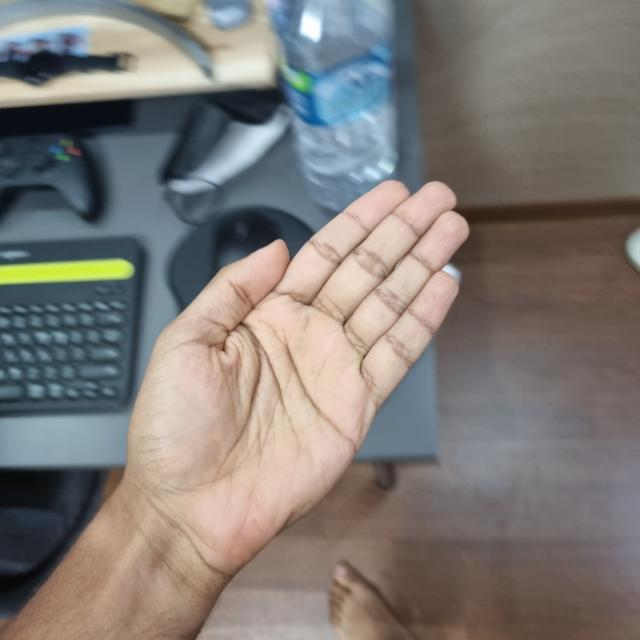Paper: (126, 180, 467, 564)
